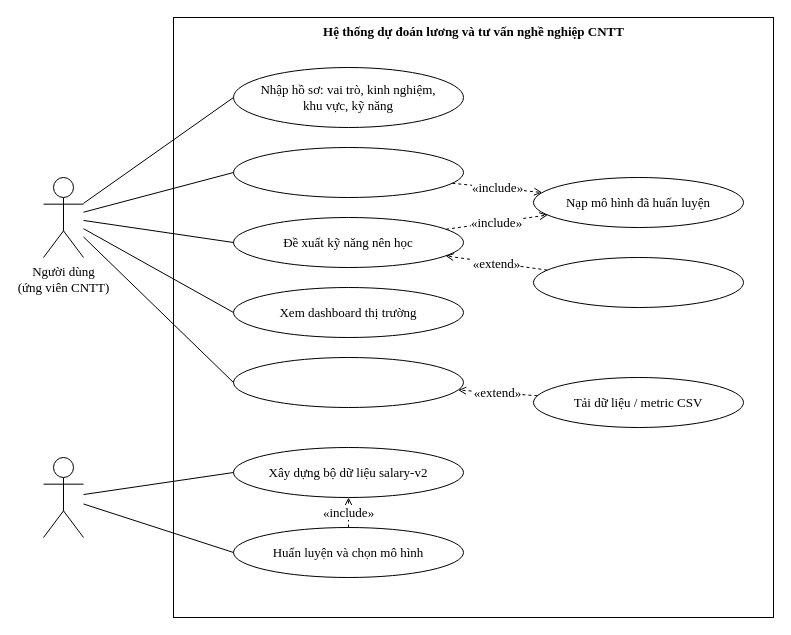
The diagram is 791 pixels wide and 635 high, and some of its shapes have lost their labels. The shapes that lost their labels are listed below. From the top down, each one's centre as x and y in pixels, then its label:
At [348,172]: "Dự đoán mức lương".
At [638,282]: "Xem lộ trình theo kinh nghiệm".
At [348,382]: "Xem đánh giá mô hình".
At [63,497]: "Nhà phát triển / quản trị".
